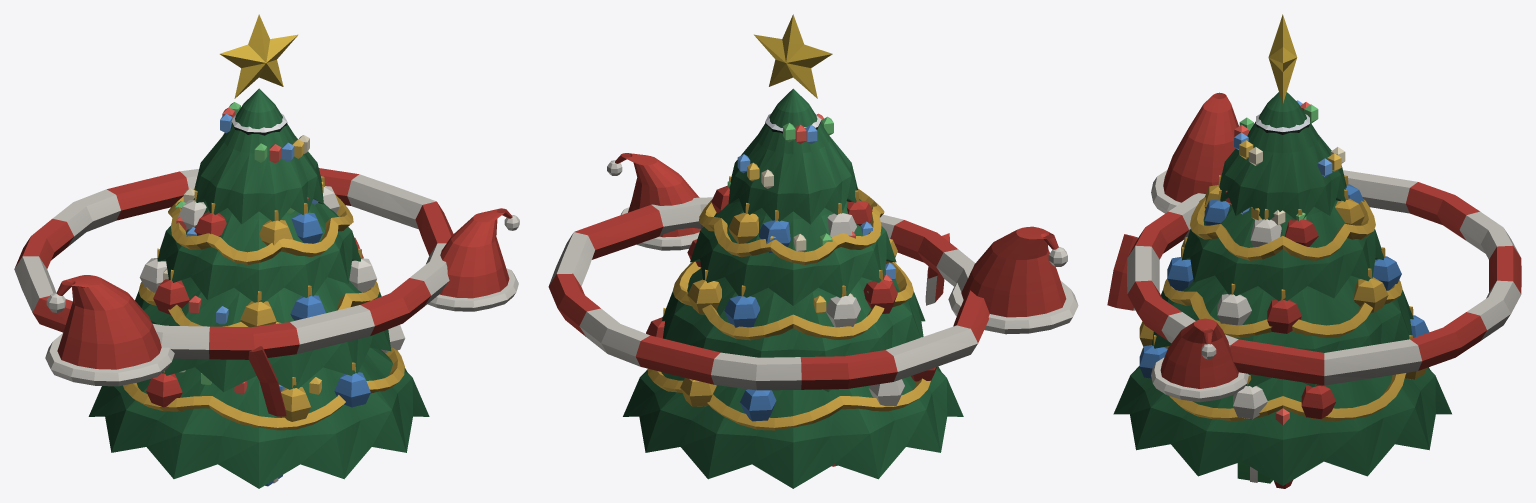
Rendered from Ville_Winter_Kit.glb.
3 renders of one model, left to right at view 1: azimuth 30°, elevation 25°; view 2: azimuth 150°, elevation 25°; view 3: azimuth 270°, elevation 25°, orthographic.
Parts seen in each view (by area): view 1: Winter_Fountain_Tree, Winter_Fountain_Hats; view 2: Winter_Fountain_Tree, Winter_Fountain_Hats; view 3: Winter_Fountain_Tree, Winter_Fountain_Hats, Winter_Gifts.
Boxes of the visible parts, x1,y1,x2,y2 form: Winter_Fountain_Tree: (88,14,429,488); Winter_Fountain_Hats: (14,168,519,416); Winter_Fountain_Tree: (623,14,963,488); Winter_Fountain_Hats: (548,153,1078,390); Winter_Fountain_Tree: (1113,14,1451,485); Winter_Fountain_Hats: (1107,92,1521,402); Winter_Gifts: (1237,461,1272,483).
Bounding box in the file's own units: 4.91 × 4.64 × 3.8.
